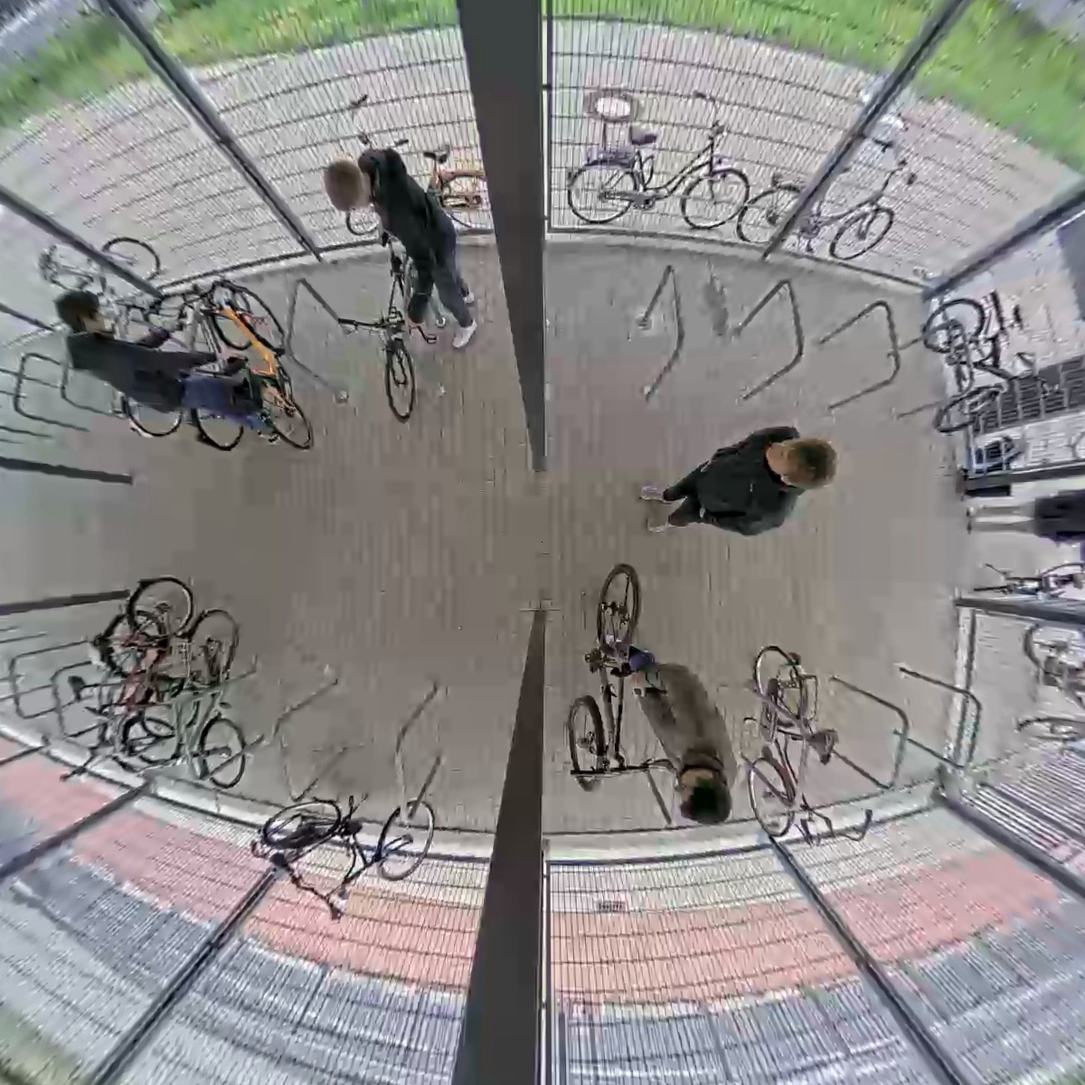bicylce: (257, 789, 435, 917), (566, 559, 657, 793), (347, 236, 433, 431), (752, 647, 834, 849), (88, 618, 181, 780), (113, 576, 194, 756), (919, 299, 1013, 432), (242, 272, 305, 463), (190, 610, 254, 789), (181, 285, 244, 452), (134, 297, 190, 446)
saddle: (627, 647, 656, 691), (811, 729, 840, 765), (215, 345, 245, 375), (149, 674, 173, 704), (63, 674, 86, 704), (266, 855, 292, 877), (1011, 304, 1025, 329)
